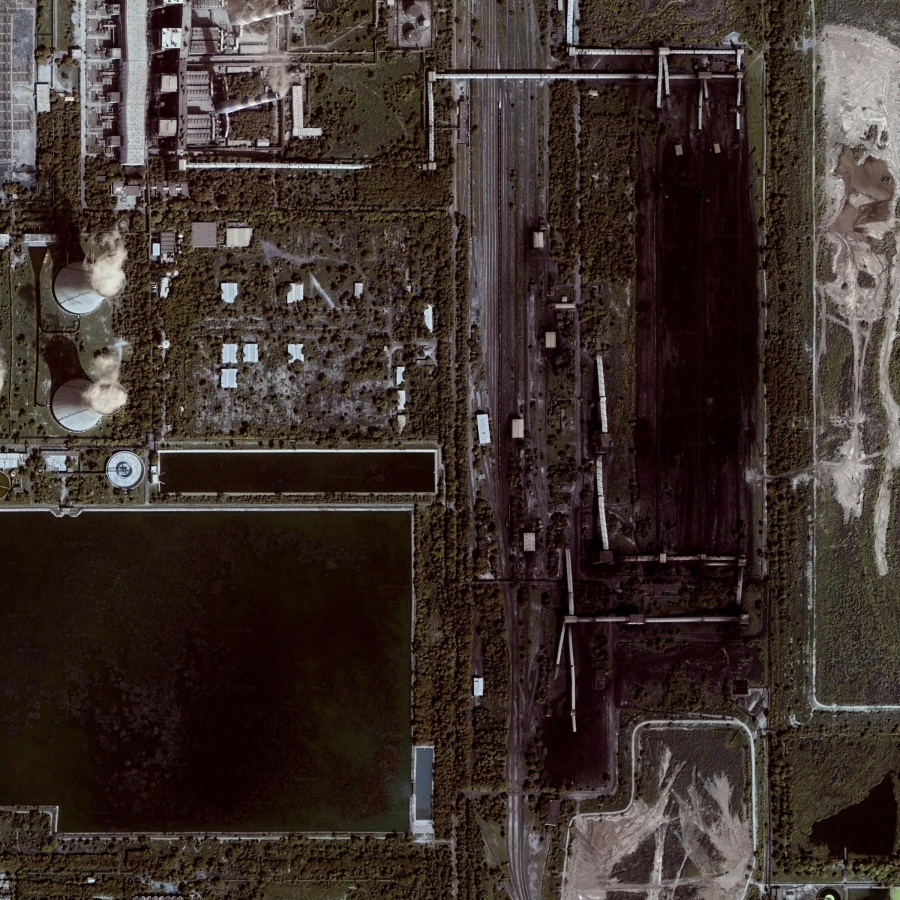PowerPlant: (420, 40, 784, 797)
